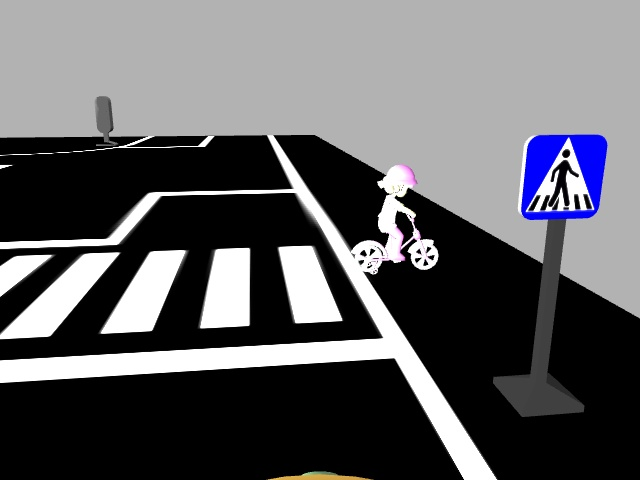Crosswalk: (520, 129, 609, 221)
Pedestrian: (339, 159, 444, 280)
